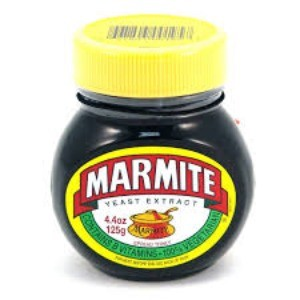yeast spread_brain food: (56, 105, 247, 251)
